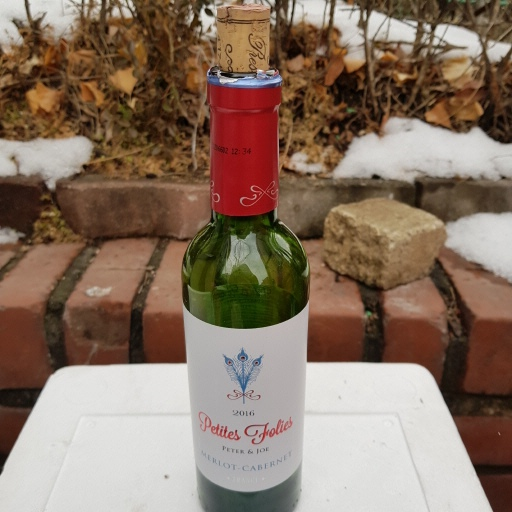Glass_2: (178, 6, 311, 512)
